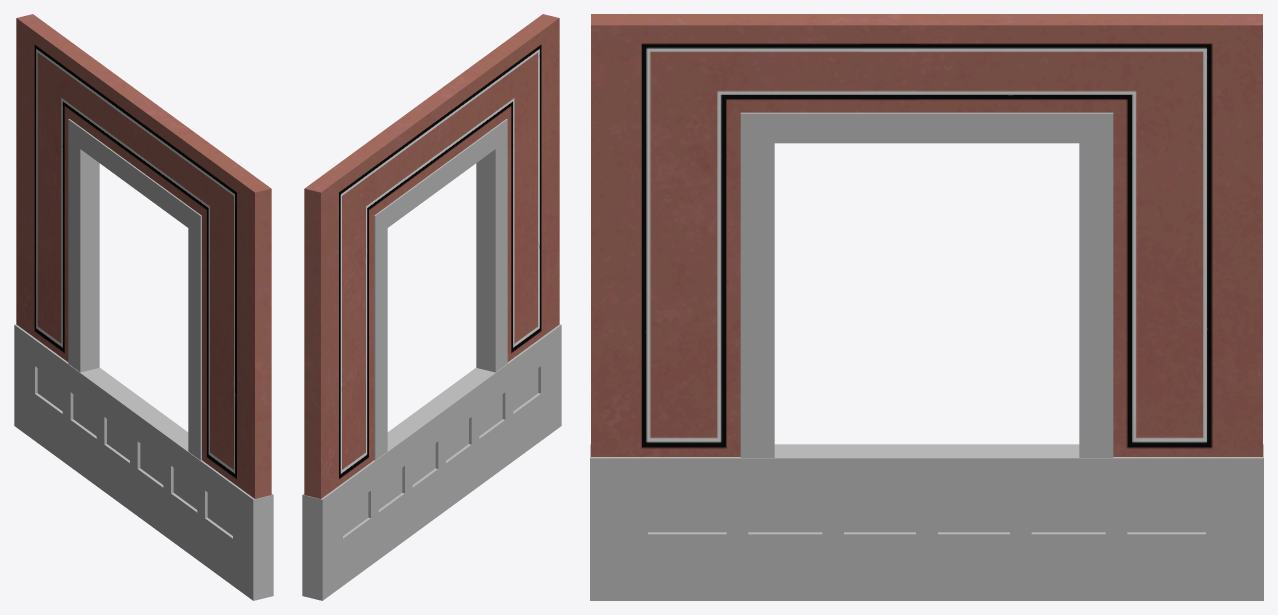
Rendered from SM_Wall04F.fbx.
The picture shows the model from 3 angles, left to right: view 1: azimuth 30°, elevation 25°; view 2: azimuth 150°, elevation 25°; view 3: azimuth 270°, elevation 25°; orthographic projection. The views are drawn at different scales.
Parts seen in each view (by area): view 1: SM_Wall04F; view 2: SM_Wall04F; view 3: SM_Wall04F.
Boxes of the visible parts, bbox=[...] form: SM_Wall04F: bbox=[14, 14, 273, 600]; SM_Wall04F: bbox=[302, 14, 561, 600]; SM_Wall04F: bbox=[590, 14, 1263, 600].
Size of the model in its own units: 12 by 246 by 231.
